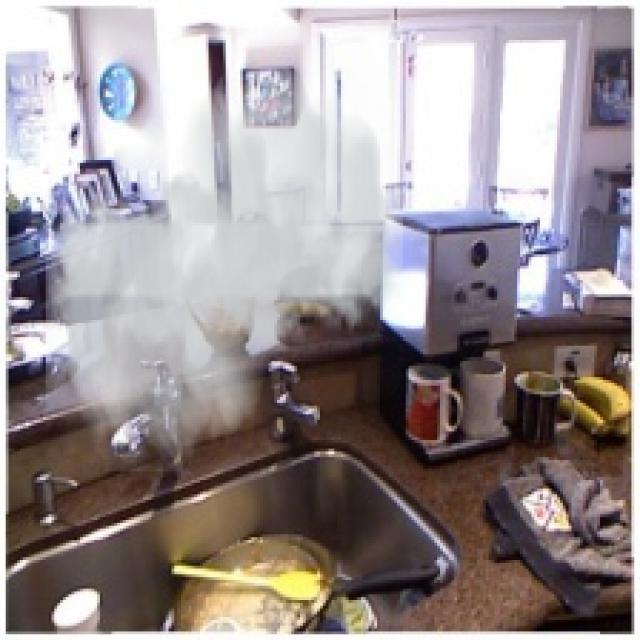Smoke: (46, 49, 403, 472)
